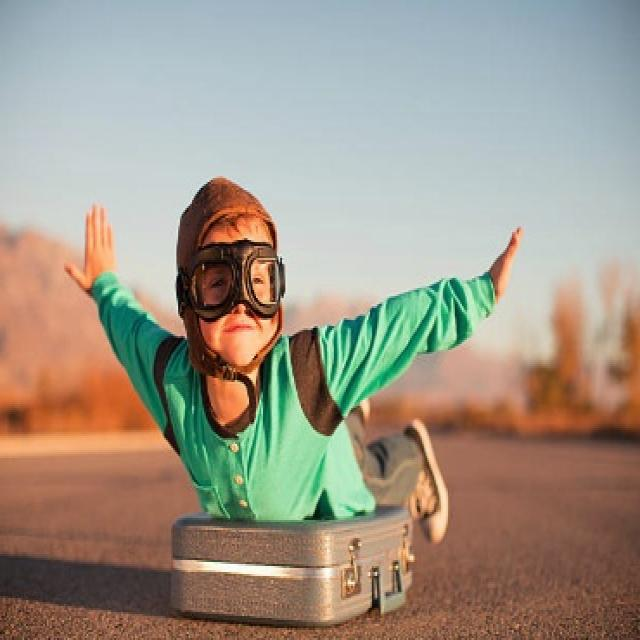child: (60, 174, 533, 522)
